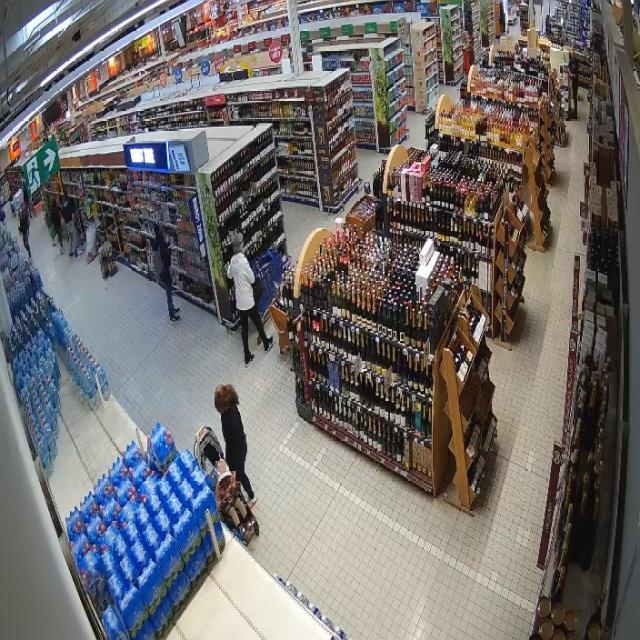bags: (153, 247, 163, 276), (252, 278, 263, 304)
hands: (231, 471, 236, 481)
person: (228, 234, 273, 366), (215, 385, 255, 506), (152, 223, 179, 323)
